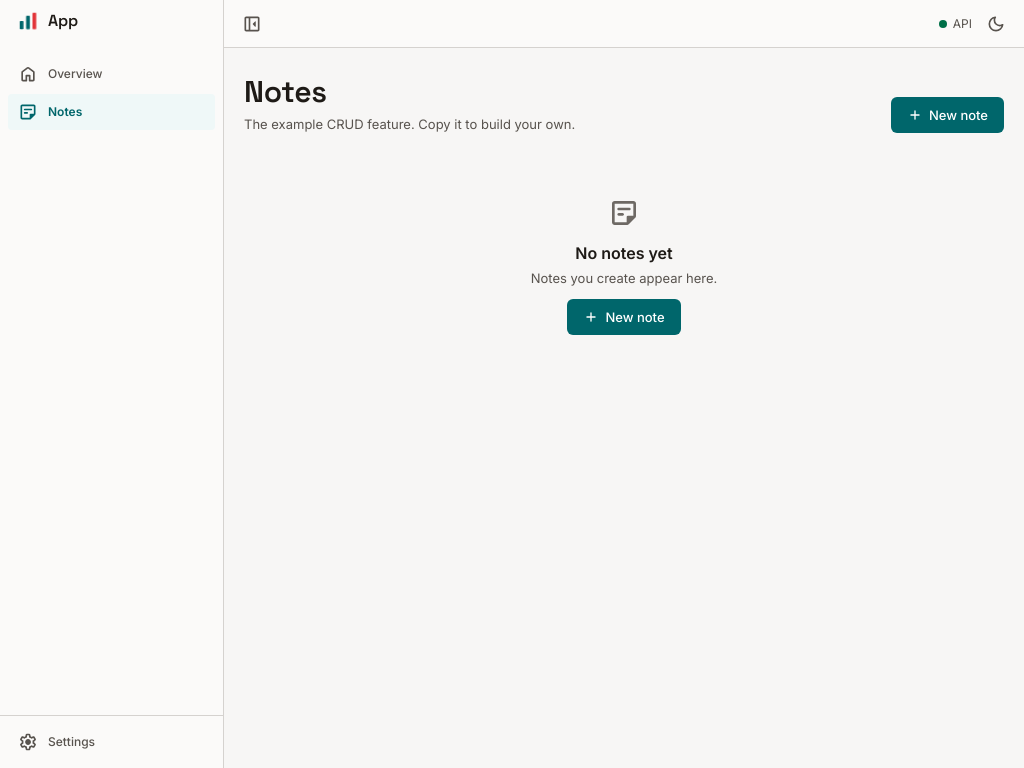
it: notes page › creates a note
Click the 1st button "New note".
click(947, 115)  # box x1=891 y1=97 x2=1004 y2=133
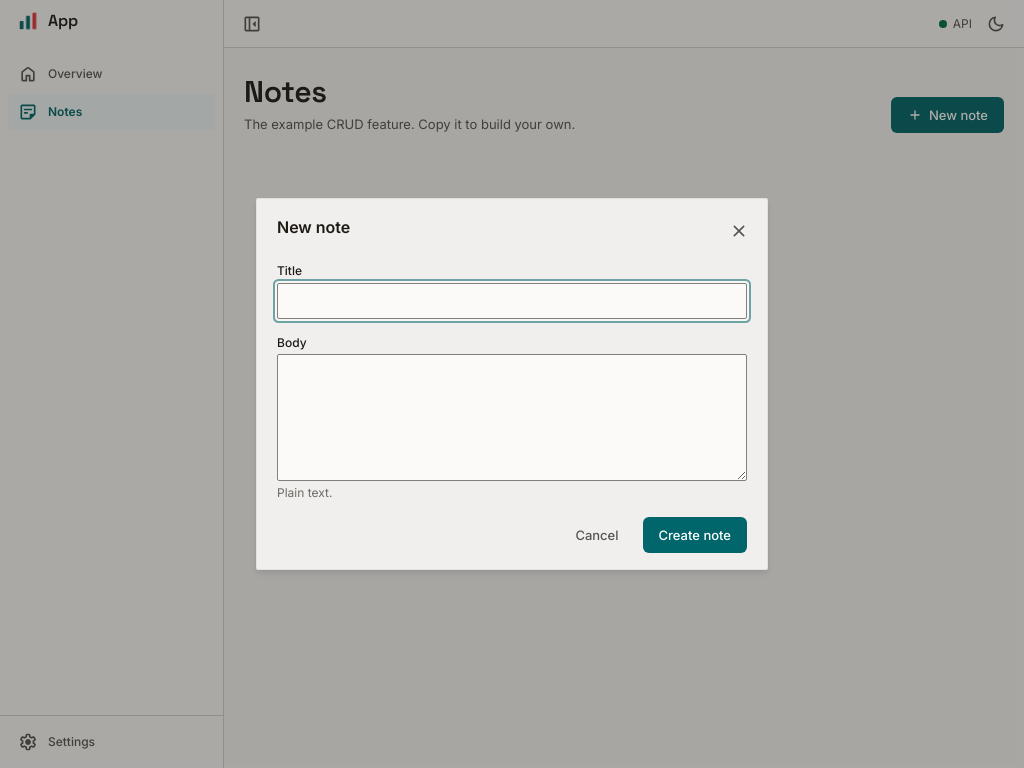
Type "Groceries" into the field labelled "Title".
click(512, 301); type("Groceries")  # box x1=277 y1=283 x2=747 y2=319
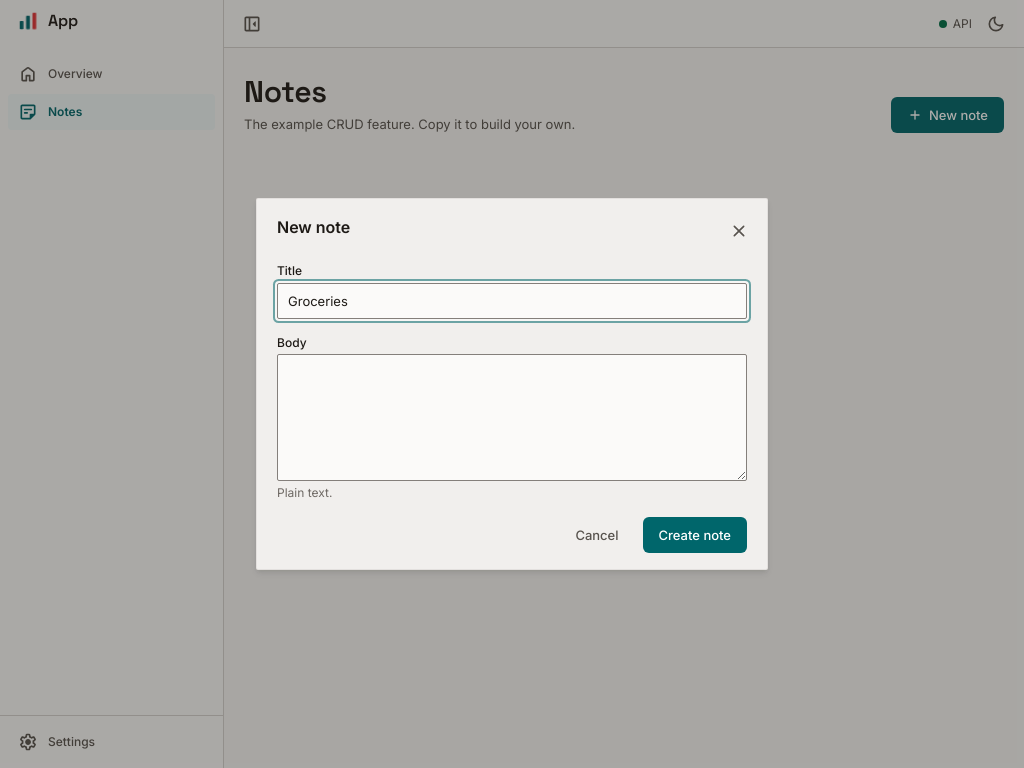
Click the button "Create note".
click(695, 535)  # box x1=642 y1=517 x2=747 y2=553
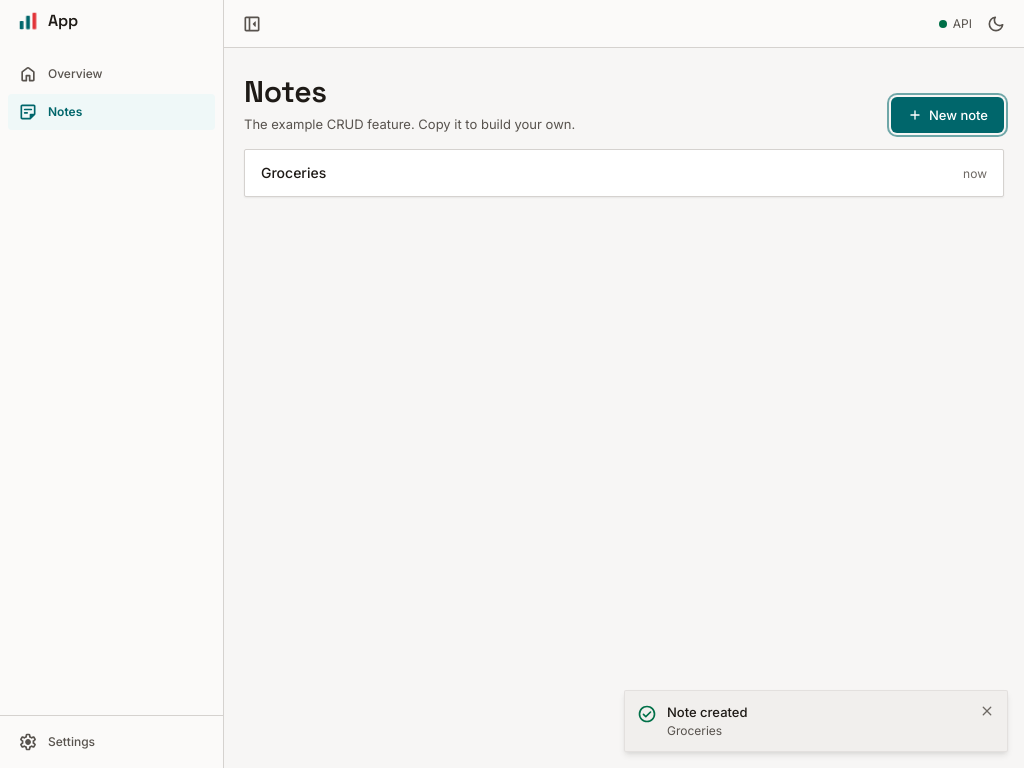
Check: the link "Groceries now" is shown, box x1=261 y1=164 x2=987 y2=181
Check: the text "Note created" is shown, box x1=667 y1=704 x2=748 y2=720
